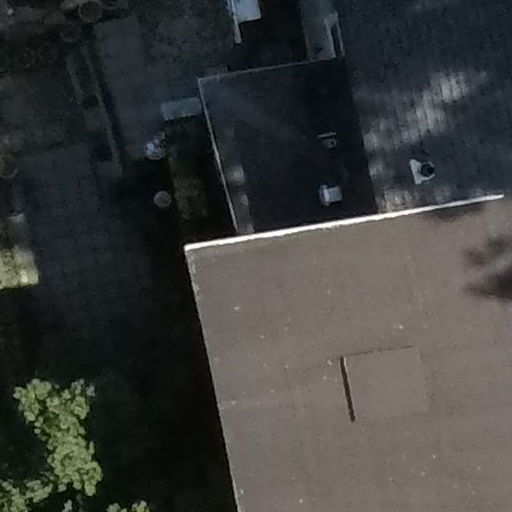container: (148, 189, 171, 212), (417, 160, 438, 180)
flower pot: (142, 134, 168, 163)
